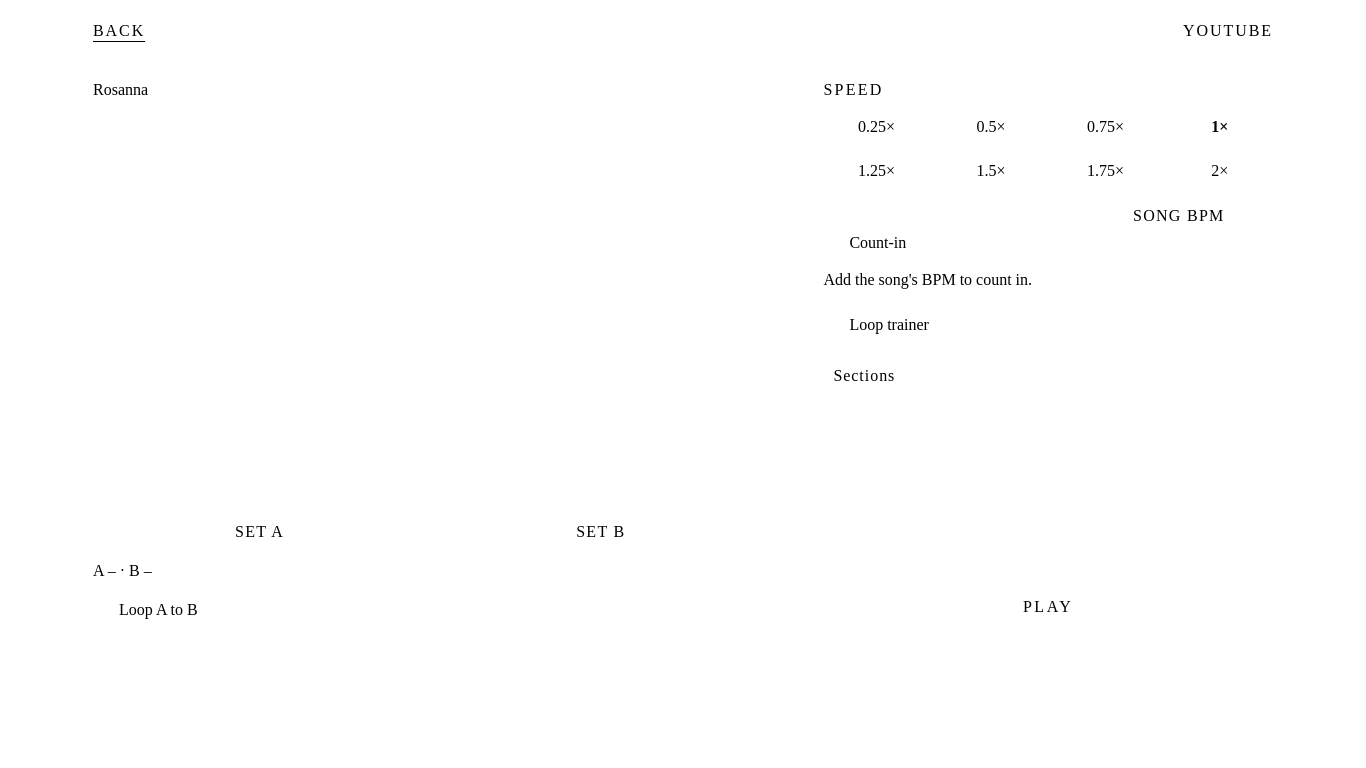
Test: YoutubePlayerScreen › sets A and B from the video time, in order
Check: the element named "Speed" is shown, box x1=858 y1=118 x2=1228 y2=179
Click the button "Set A": (260, 532) x1=93 y1=514 x2=426 y2=550
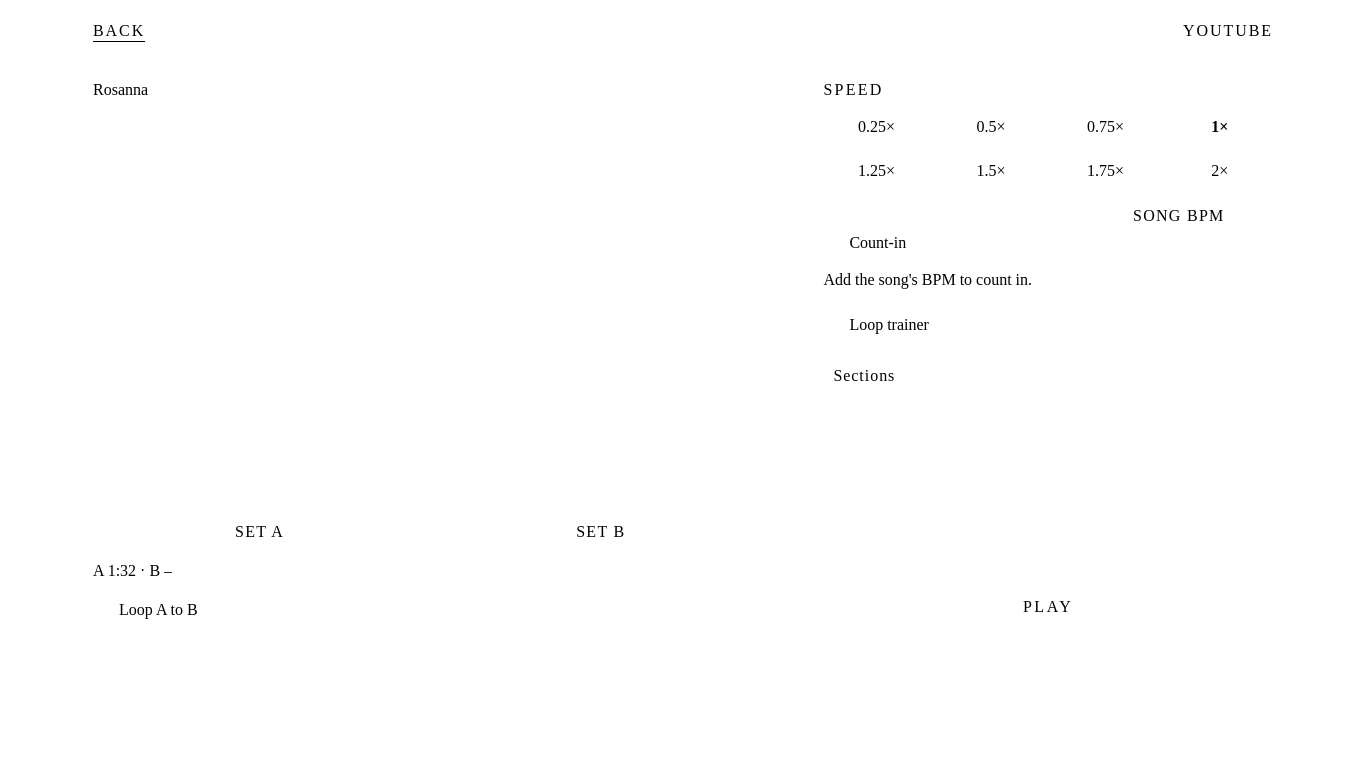
Click the button "Set B": (601, 532) x1=434 y1=514 x2=767 y2=550
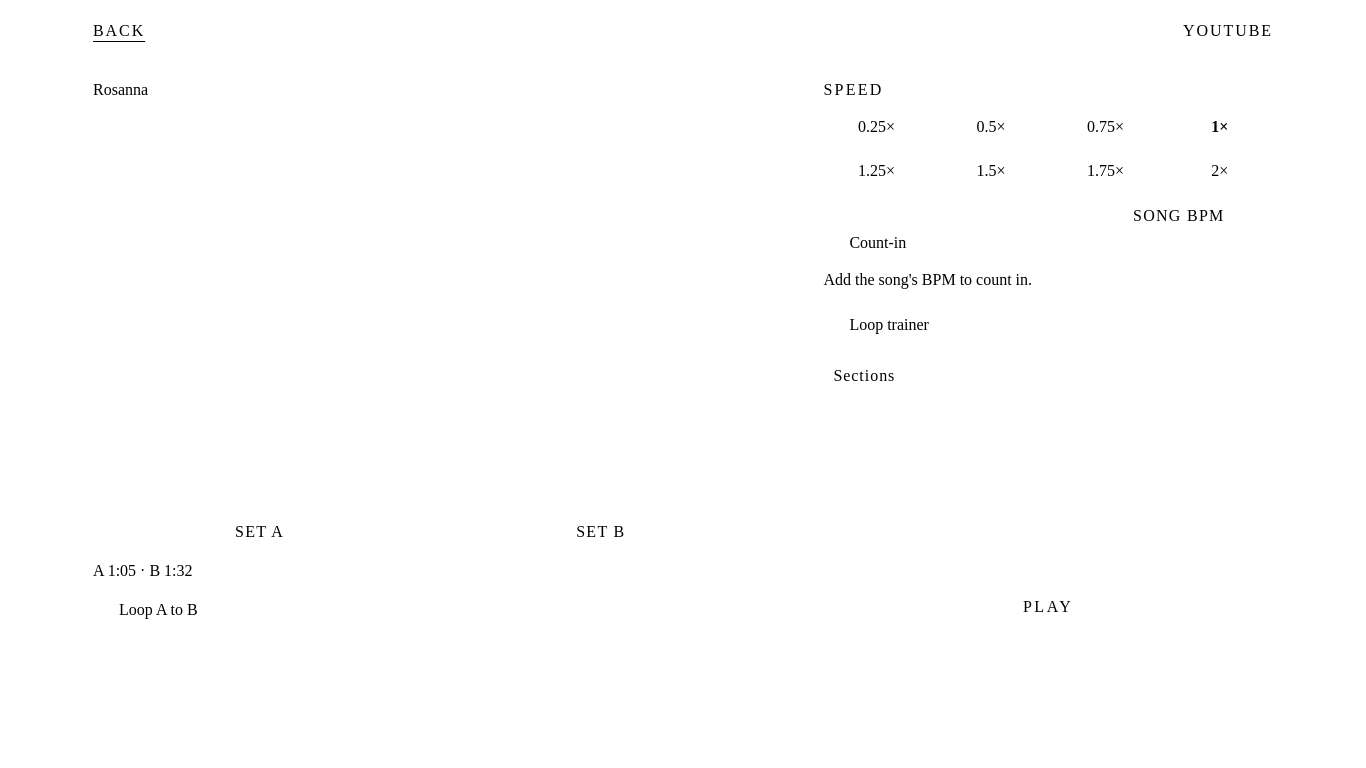
Check: the text "A 1:05 · B 1:32" is shown, box x1=93 y1=562 x2=193 y2=579
